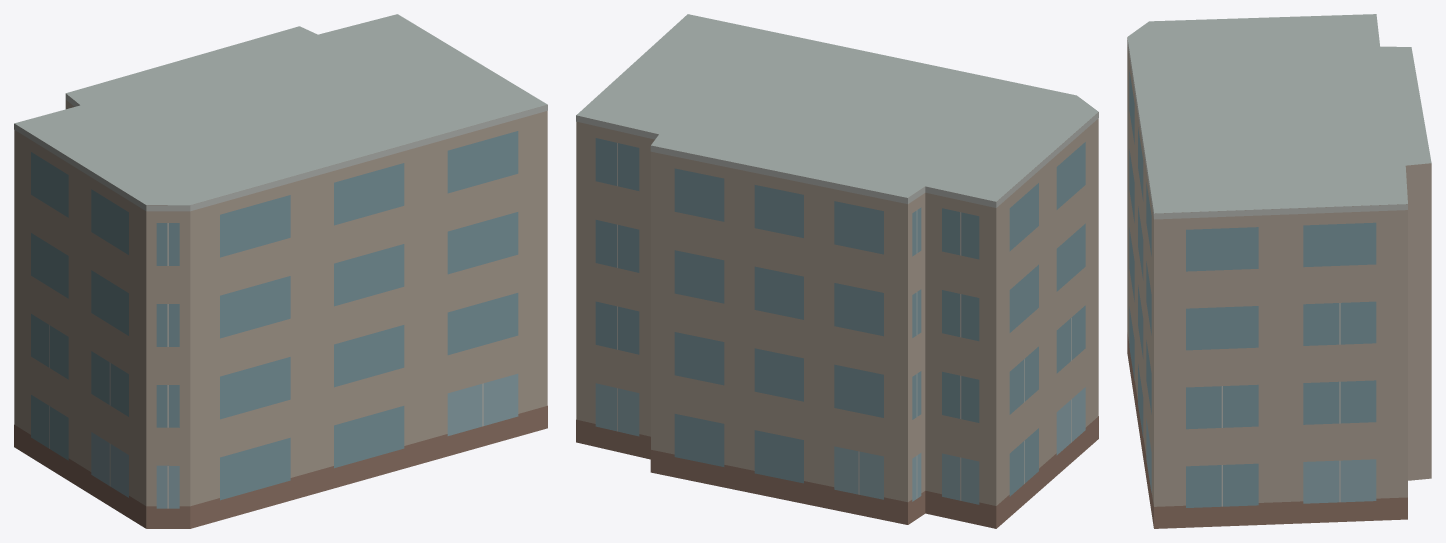
Rendered from survey-upis-32908077.glb.
The picture shows the model from 3 angles, left to right: view 1: azimuth 30°, elevation 25°; view 2: azimuth 150°, elevation 25°; view 3: azimuth 270°, elevation 25°; orthographic projection. The views are drawn at different scales.
Parts seen in each view (by area): view 1: survey-upis-32908077.tmp; view 2: survey-upis-32908077.tmp; view 3: survey-upis-32908077.tmp.
Boxes of the visible parts, x1,y1,x2,y2 form: survey-upis-32908077.tmp: (14, 14, 547, 528); survey-upis-32908077.tmp: (576, 14, 1098, 528); survey-upis-32908077.tmp: (1127, 14, 1431, 528).
Size of the model in its own units: 17.37 by 12.8 by 11.2.
